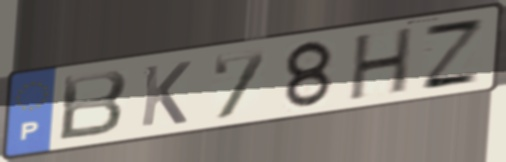7: (209, 46, 270, 122)
8: (281, 37, 340, 112)
B: (56, 68, 131, 144)
H: (345, 23, 418, 104)
K: (137, 58, 194, 130)
Z: (417, 17, 489, 92)
